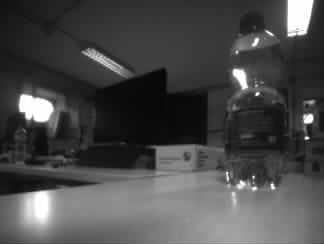Bottle: (224, 11, 287, 190)
